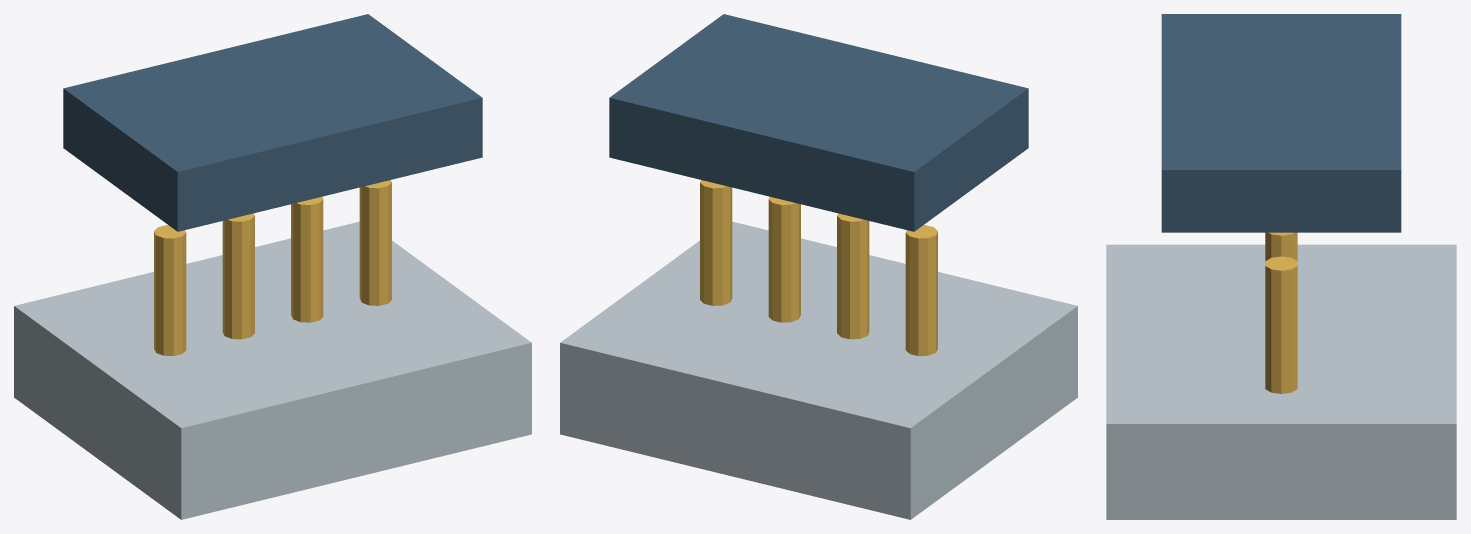
The model's file is 43_L76_FourPointInterconnectTestProbe.fbx.
The picture shows the model from 3 angles, left to right: view 1: azimuth 30°, elevation 25°; view 2: azimuth 150°, elevation 25°; view 3: azimuth 270°, elevation 25°; orthographic projection. The views are drawn at different scales.
Parts seen in each view (by area): view 1: FourPointInterconnectTestProbe, FourPointInterconnectTestProbe_Part_0005, FourPointInterconnectTestProbe_Part_0001, FourPointInterconnectTestProbe_Part_0003, FourPointInterconnectTestProbe_Part_0002, FourPointInterconnectTestProbe_Part_0004; view 2: FourPointInterconnectTestProbe, FourPointInterconnectTestProbe_Part_0005, FourPointInterconnectTestProbe_Part_0001, FourPointInterconnectTestProbe_Part_0003, FourPointInterconnectTestProbe_Part_0002, FourPointInterconnectTestProbe_Part_0004; view 3: FourPointInterconnectTestProbe, FourPointInterconnectTestProbe_Part_0005, FourPointInterconnectTestProbe_Part_0004, FourPointInterconnectTestProbe_Part_0003.
Boxes of the visible parts, <box> form: FourPointInterconnectTestProbe: <box>14,221,531,519</box>; FourPointInterconnectTestProbe_Part_0005: <box>63,14,482,231</box>; FourPointInterconnectTestProbe_Part_0001: <box>154,225,186,355</box>; FourPointInterconnectTestProbe_Part_0003: <box>291,197,323,322</box>; FourPointInterconnectTestProbe_Part_0002: <box>222,213,254,339</box>; FourPointInterconnectTestProbe_Part_0004: <box>359,180,391,305</box>; FourPointInterconnectTestProbe: <box>560,221,1077,519</box>; FourPointInterconnectTestProbe_Part_0005: <box>609,14,1028,231</box>; FourPointInterconnectTestProbe_Part_0001: <box>905,225,937,355</box>; FourPointInterconnectTestProbe_Part_0003: <box>768,197,800,322</box>; FourPointInterconnectTestProbe_Part_0002: <box>837,213,869,339</box>; FourPointInterconnectTestProbe_Part_0004: <box>700,180,732,305</box>; FourPointInterconnectTestProbe: <box>1106,244,1456,519</box>; FourPointInterconnectTestProbe_Part_0005: <box>1161,14,1401,232</box>; FourPointInterconnectTestProbe_Part_0004: <box>1265,256,1297,393</box>; FourPointInterconnectTestProbe_Part_0003: <box>1265,232,1297,260</box>.
Bounding box in the file's own units: 92 × 81 × 76.
